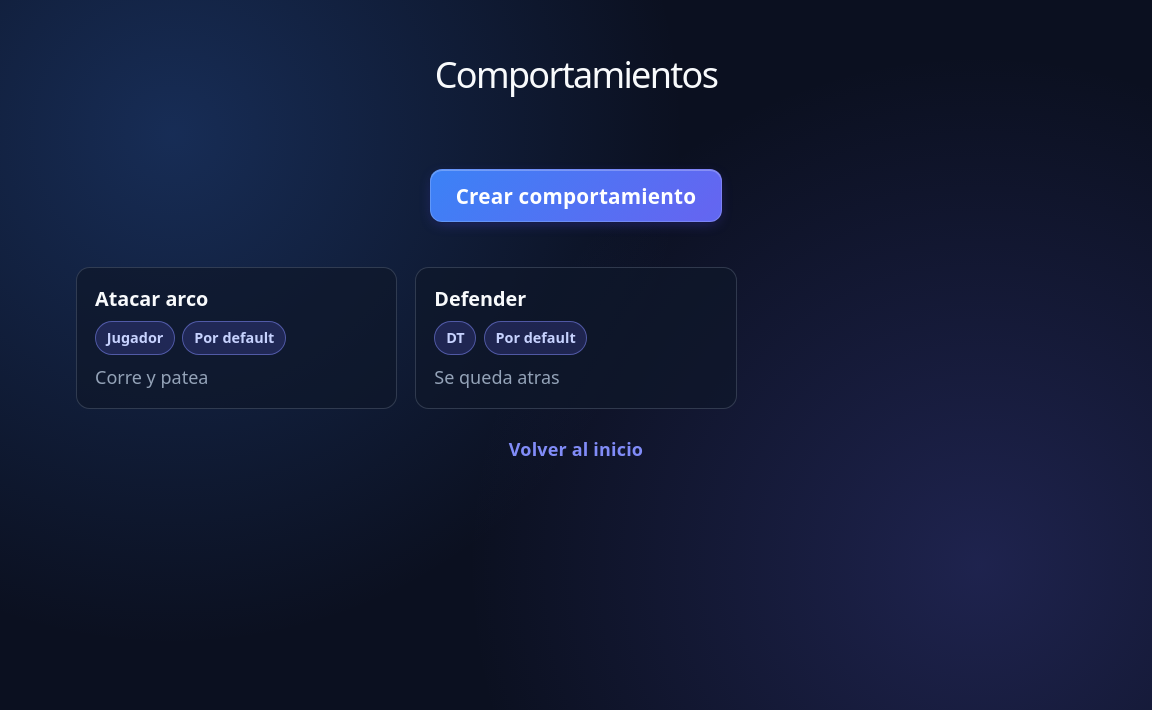
Test: BehaviorListPage › Crear y editar › Debería abrir el formulario de creación y volver a la lista al cancelar sin pedirla de nuevo
The image size is (1152, 710).
Later steps or results of the test are not shown.
Expected: the text "Atacar arco" is shown, [95,286,208,312]
Click the button "Crear comportamiento". click: (576, 196)
box: [430,169,722,222]
(page scrolled)
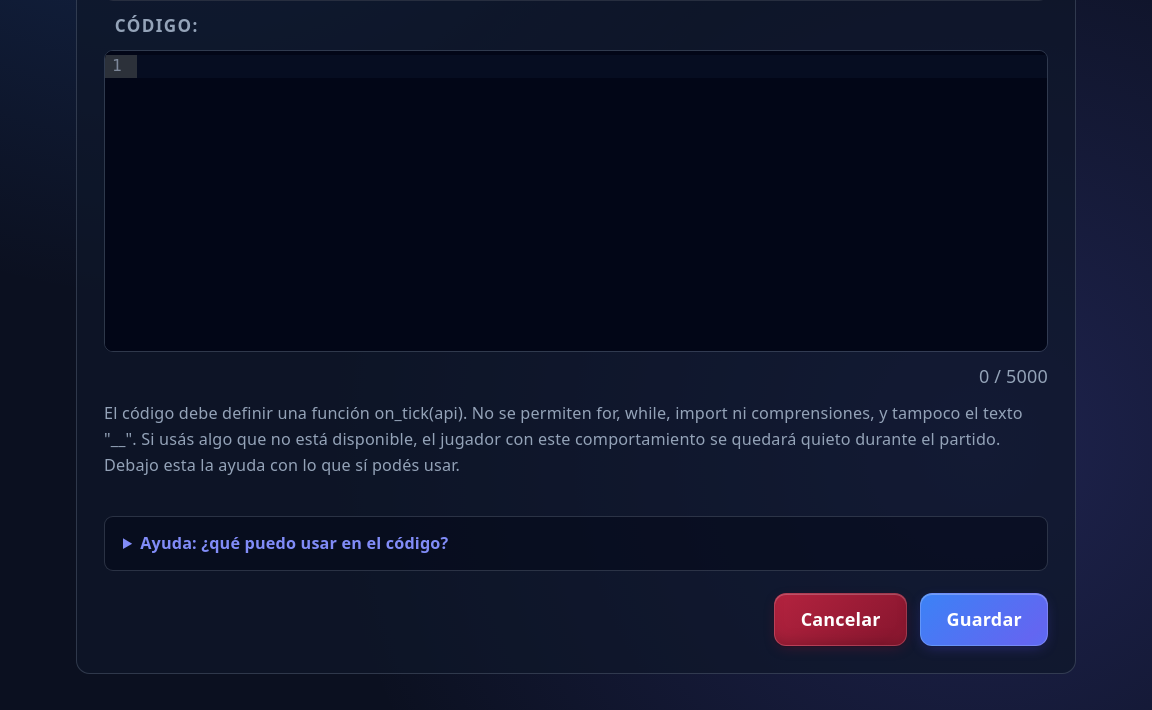
Now no buttons with test id "behavior-card" are shown
